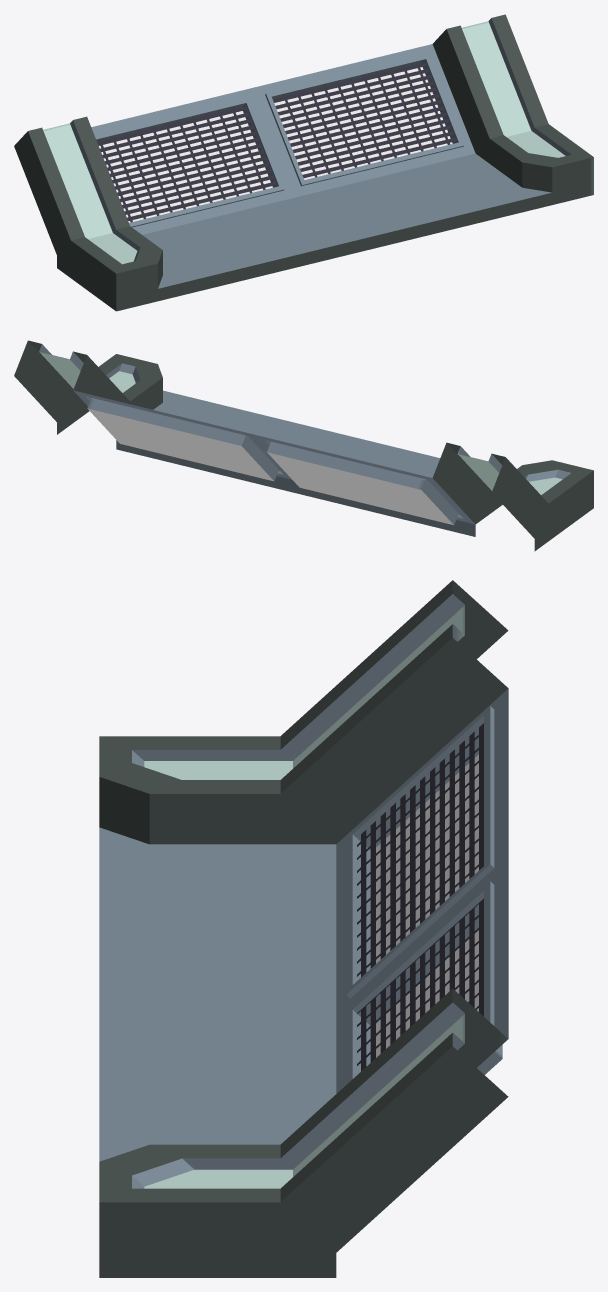
The model's file is floor_side.fbx.
3 renders of one model, top to bottom at view 1: azimuth 30°, elevation 25°; view 2: azimuth 150°, elevation 25°; view 3: azimuth 270°, elevation 25°, orthographic. The views are drawn at different scales.
Visible parts, largest first — view 1: window_big_no_LOD; view 2: window_big_no_LOD; view 3: window_big_no_LOD.
Boxes of the visible parts, left/top/right/bottom form: window_big_no_LOD: left=14, top=14, right=593, bottom=311; window_big_no_LOD: left=14, top=340, right=593, bottom=551; window_big_no_LOD: left=99, top=580, right=508, bottom=1277.
Size of the model in its own units: 400 by 92.69 by 148.
3 materials, 2 textured.
